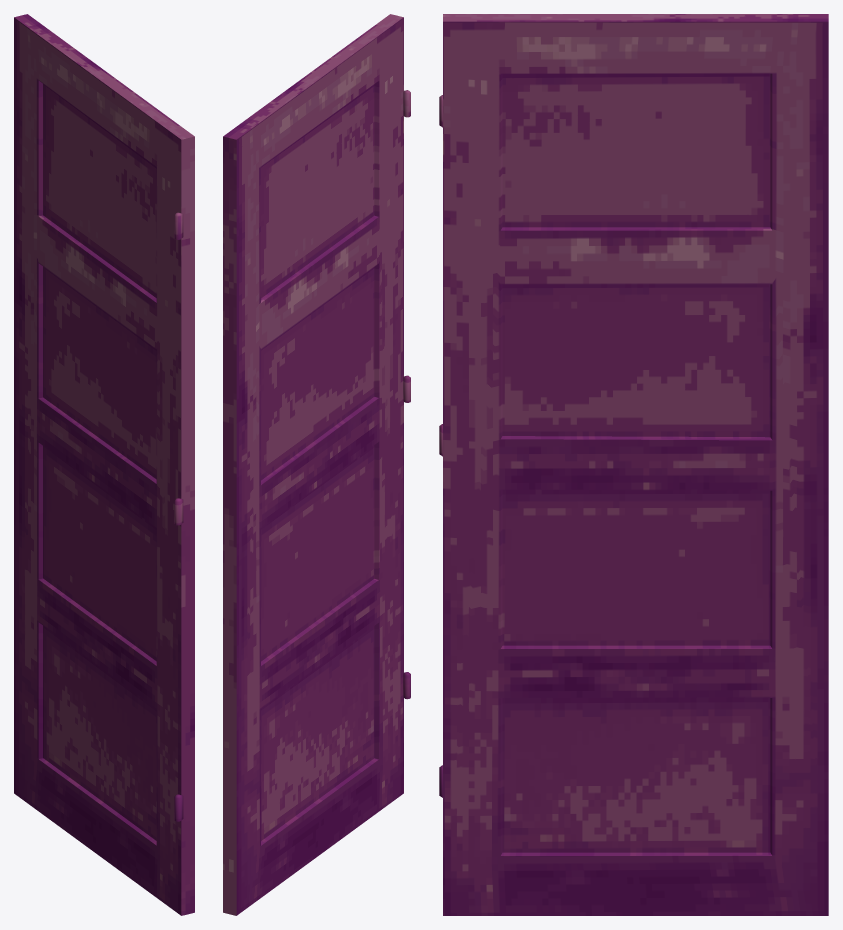
The model's file is door_double_right.glb.
The picture shows the model from 3 angles, left to right: view 1: azimuth 30°, elevation 25°; view 2: azimuth 150°, elevation 25°; view 3: azimuth 270°, elevation 25°; orthographic projection. The views are drawn at different scales.
Visible parts, largest first — view 1: Object_6.001; view 2: Object_6.001; view 3: Object_6.001.
Part boxes in pixels (x1=…): Object_6.001: x1=14, y1=14, x2=194, y2=915; Object_6.001: x1=223, y1=14, x2=410, y2=915; Object_6.001: x1=439, y1=14, x2=828, y2=915.
Size of the model in its own units: 0.3337 by 12.34 by 4.87.
1 material, 1 textured.
